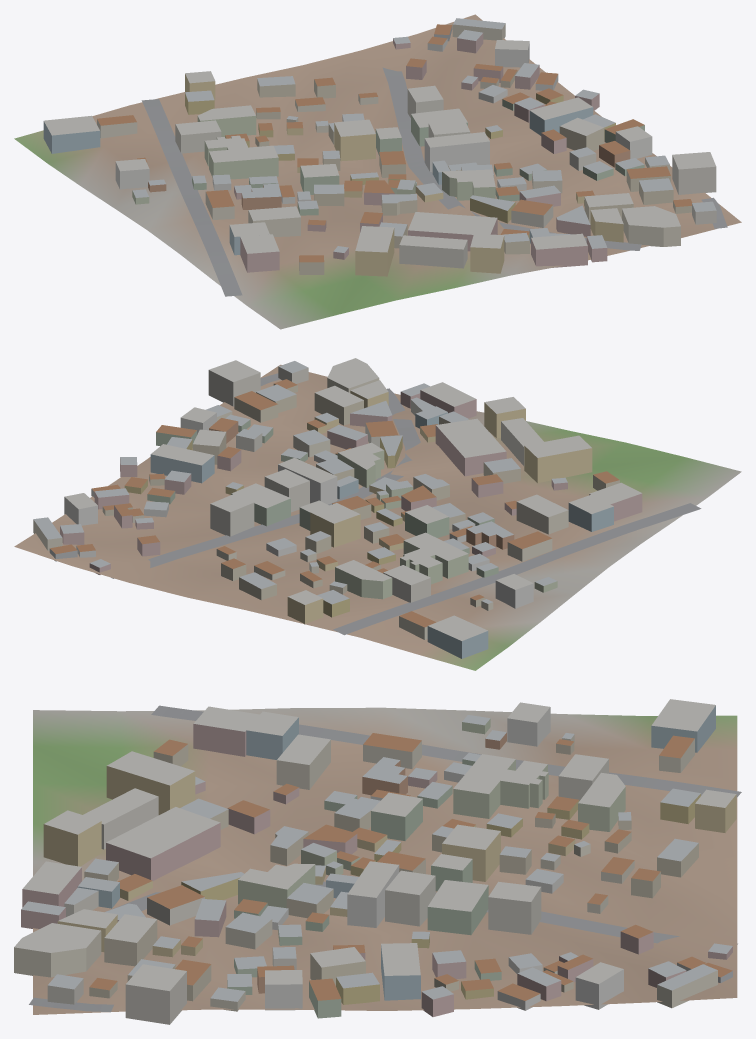
3 views of the same model, one above another, from view 1: azimuth 30°, elevation 25°; view 2: azimuth 150°, elevation 25°; view 3: azimuth 270°, elevation 25° (orthographic). The views are drawn at different scales.
Visible parts, largest first — view 1: Lo; view 2: Lo; view 3: Lo.
Boxes of the visible parts, box(x1,y1,x2,y2) form: Lo: box(14, 14, 741, 329); Lo: box(14, 358, 741, 670); Lo: box(14, 699, 741, 1024).
Bounding box in the file's own units: 271 × 16.26 × 265.
